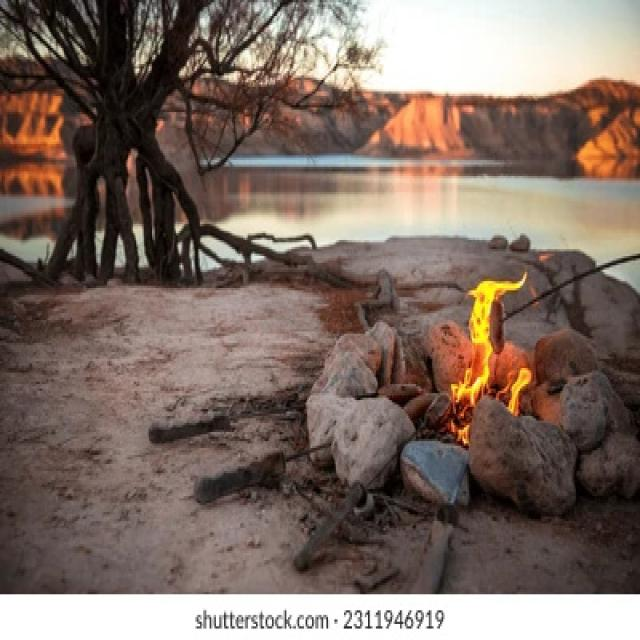fire: (468, 274, 525, 380), (450, 379, 529, 447)
